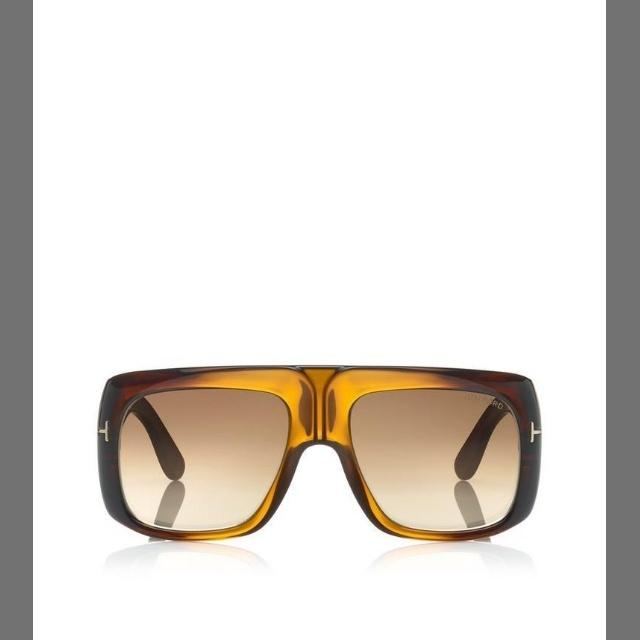Sunglasses: (72, 323, 580, 584)
